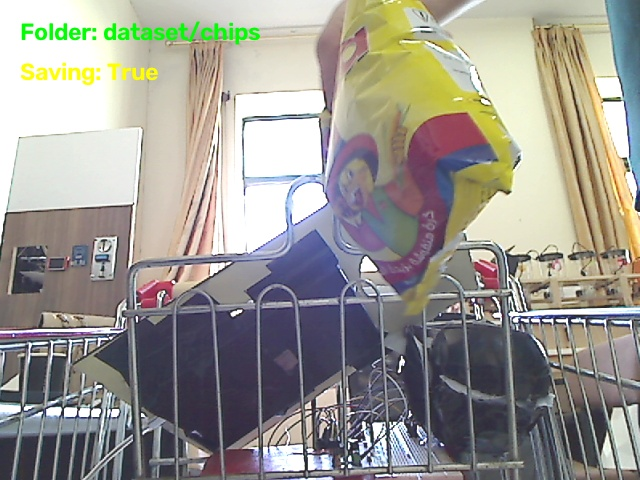chips: (325, 0, 519, 313)
